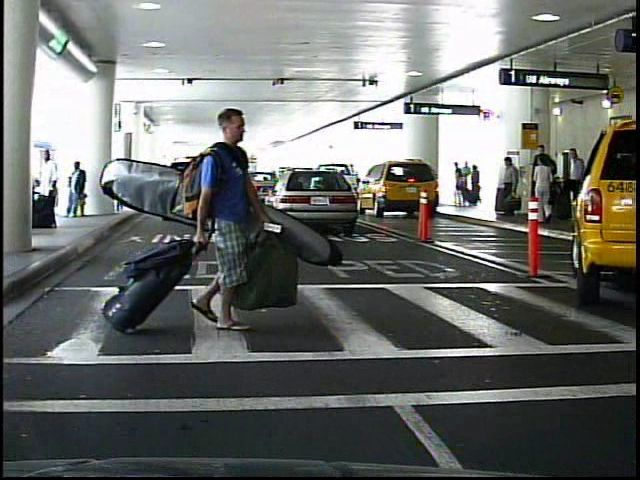person: (193, 100, 281, 352), (30, 147, 62, 231), (66, 158, 93, 224), (532, 143, 554, 219), (534, 155, 556, 224), (498, 158, 520, 220), (451, 160, 465, 208), (565, 145, 582, 182), (461, 161, 473, 208), (469, 162, 481, 206)
